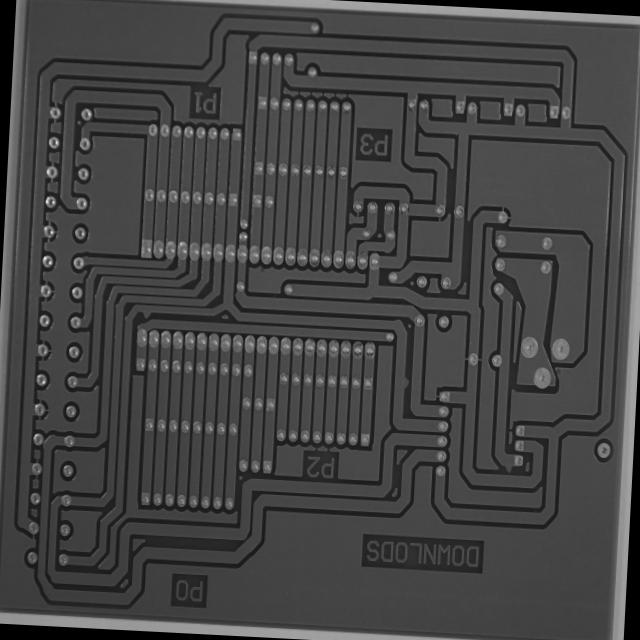spur: (137, 305, 156, 321), (398, 372, 411, 394), (503, 460, 516, 476)
